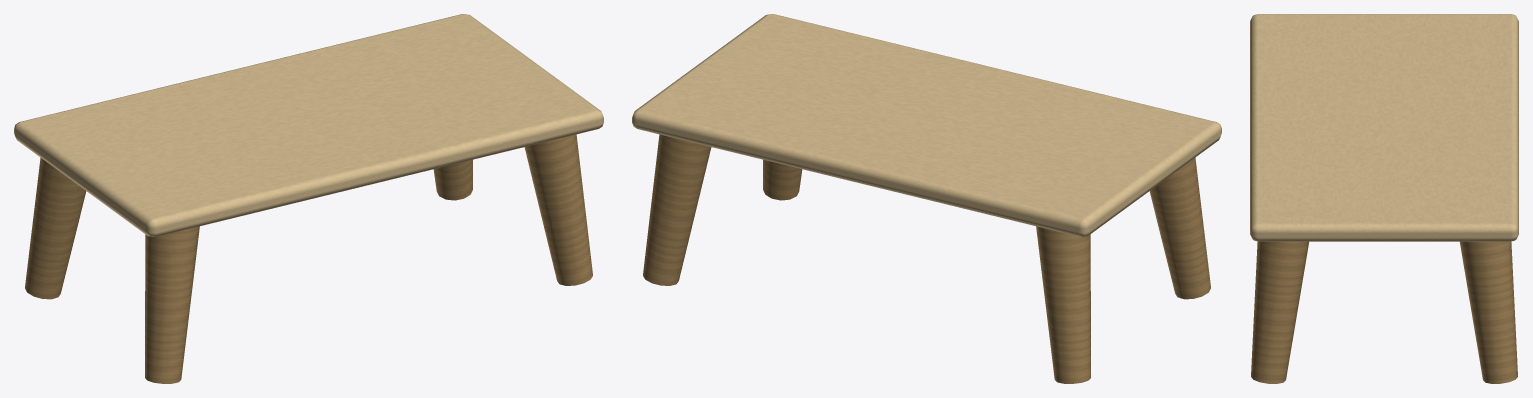
Rendered from coffee_table_veranda-227b490739f6.glb.
3 renders of one model, left to right at view 1: azimuth 30°, elevation 25°; view 2: azimuth 150°, elevation 25°; view 3: azimuth 270°, elevation 25°, orthographic. The views are drawn at different scales.
Visible parts, largest first — view 1: surface_plaster, surface_bamboo; view 2: surface_plaster, surface_bamboo; view 3: surface_plaster, surface_bamboo.
Boxes of the visible parts, x1=… form: surface_plaster: x1=14, y1=14, x2=603, y2=236; surface_bamboo: x1=25, y1=134, x2=592, y2=383; surface_plaster: x1=632, y1=14, x2=1221, y2=236; surface_bamboo: x1=643, y1=134, x2=1210, y2=383; surface_plaster: x1=1250, y1=14, x2=1518, y2=241; surface_bamboo: x1=1251, y1=241, x2=1517, y2=383.
Bounding box in the file's own units: 1.11 × 0.3962 × 0.5837.
2 materials, 2 textured.
